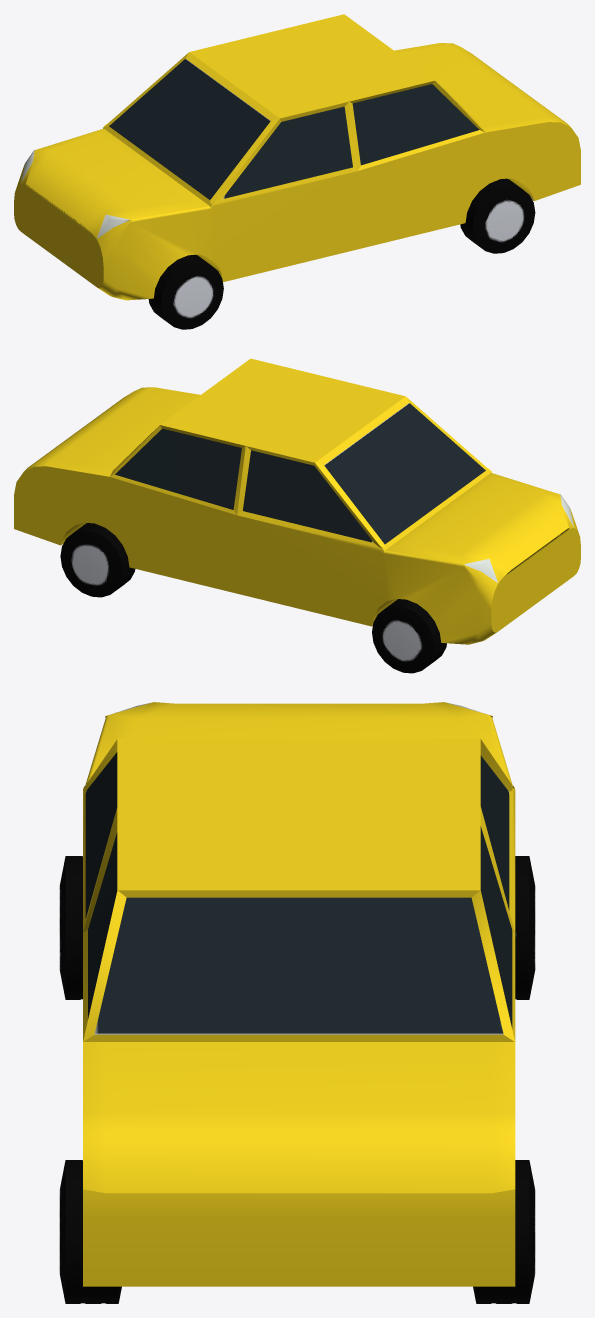
The model's file is GoldCar.fbx.
3 views of the same model, one above another, from view 1: azimuth 30°, elevation 25°; view 2: azimuth 150°, elevation 25°; view 3: azimuth 270°, elevation 25° (orthographic). The views are drawn at different scales.
Parts seen in each view (by area): view 1: UVMapCar:RoadKillOut; view 2: UVMapCar:RoadKillOut; view 3: UVMapCar:RoadKillOut.
Part boxes in pixels (x1,y1,x2,y2): UVMapCar:RoadKillOut: (14,14,580,329); UVMapCar:RoadKillOut: (14,358,580,673); UVMapCar:RoadKillOut: (59,702,535,1303).
Size of the model in its own units: 7.82 by 2.8 by 3.42.
